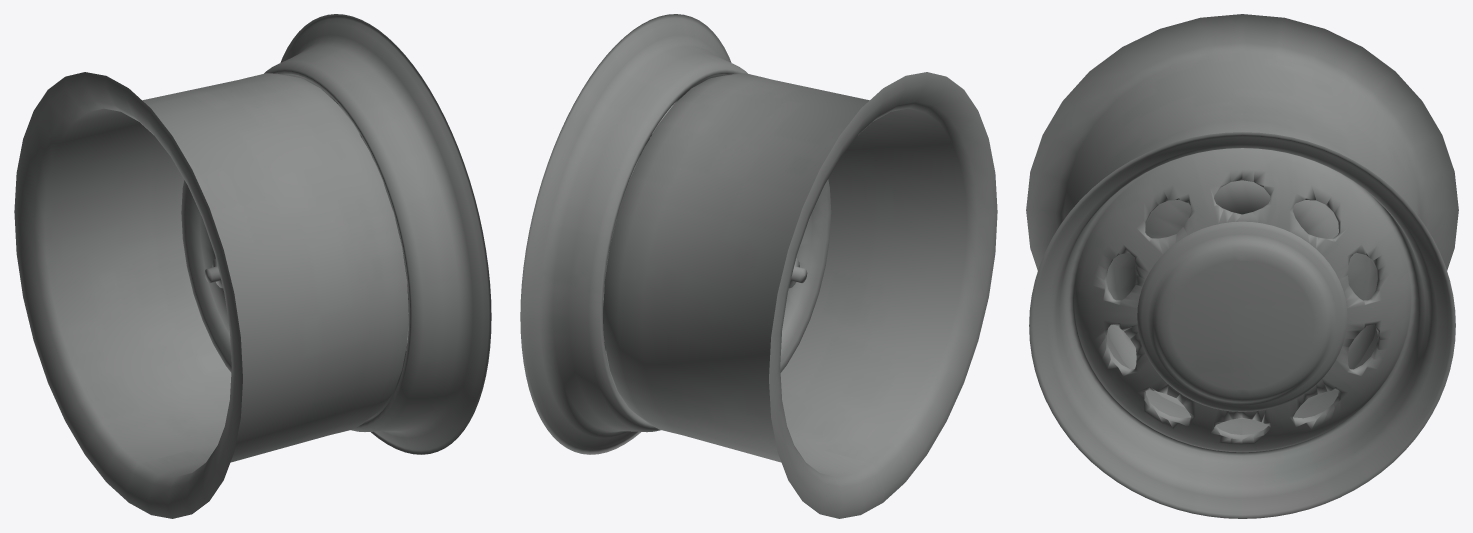
3 renders of one model, left to right at view 1: azimuth 30°, elevation 25°; view 2: azimuth 150°, elevation 25°; view 3: azimuth 270°, elevation 25°, orthographic. The views are drawn at different scales.
Visible parts, largest first — view 1: Aero; view 2: Aero; view 3: Aero.
Boxes of the visible parts, left/top/right/bottom form: Aero: left=14, top=14, right=491, bottom=518; Aero: left=520, top=14, right=997, bottom=518; Aero: left=1026, top=14, right=1458, bottom=518.
Size of the model in its own units: 0.7704 by 1.21 by 1.21.
1 material, 1 textured.
